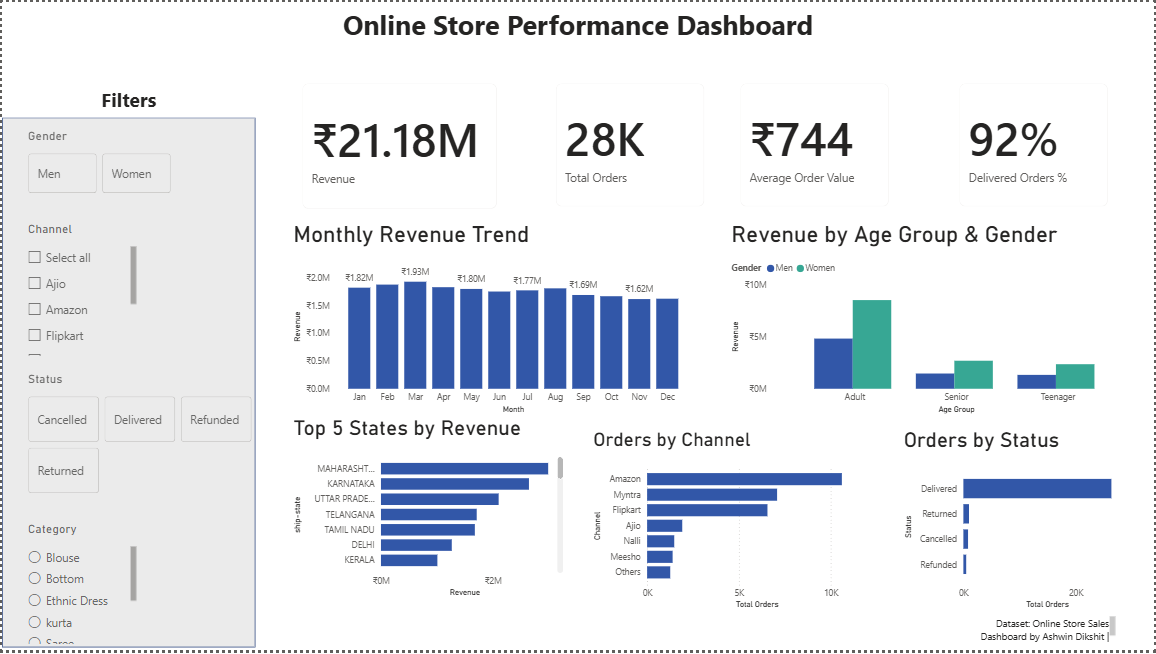

The dashboard page shown, as its layout file describes it:
{"tool":"powerbi","page":{"name":"Page 1","canvas":[1600,900],"ordinal":0},"visuals":[{"type":"cardVisual","fields":{"Data":["Online Store DB.Revenue"]},"box":[400,96,304,208],"z":1000},{"type":"cardVisual","fields":{"Data":["Online Store DB.Total Orders"]},"box":[752,96,240,205],"z":2000},{"type":"cardVisual","fields":{"Data":["Online Store DB.Average Order Value"]},"box":[1008,96,240,205],"z":3000},{"type":"cardVisual","fields":{"Data":["Online Store DB.Delivered Orders %"]},"box":[1312,96,240,205],"z":4000},{"type":"clusteredColumnChart","title":"Monthly Revenue Trend","fields":{"Category":["Online Store DB.Month"],"Y":["Online Store DB.Revenue"]},"box":[400,304,560,272],"z":5000},{"type":"barChart","title":"Top 5 States by Revenue","fields":{"Category":["Online Store DB.ship-state"],"Y":["Online Store DB.Revenue"]},"box":[400,576,384,256],"z":6000},{"type":"barChart","title":"Orders by Channel","fields":{"Category":["Online Store DB.Channel "],"Y":["Online Store DB.Total Orders"]},"box":[816,592,400,256],"z":7000},{"type":"barChart","title":"Orders by Status","fields":{"Category":["Online Store DB.Status"],"Y":["Online Store DB.Total Orders"]},"box":[1248,592,336,256],"z":8000},{"type":"clusteredColumnChart","title":"Revenue by Age Group & Gender","fields":{"Category":["Online Store DB.Age Group"],"Series":["Online Store DB.Gender"],"Y":["Online Store DB.Revenue"]},"box":[1008,304,576,272],"z":9000},{"type":"listSlicer","fields":{"Values":["Online Store DB.Channel "]},"box":[32,304,160,192],"z":10000},{"type":"listSlicer","fields":{"Values":["Online Store DB.Category"]},"box":[32,720,160,176],"z":11000},{"type":"advancedSlicerVisual","fields":{"Values":["Online Store DB.Gender"]},"box":[32,176,208,96],"z":12000},{"type":"advancedSlicerVisual","fields":{"Values":["Online Store DB.Status"]},"box":[32,512,320,176],"z":13000},{"type":"textbox","box":[0,0,1600,80],"z":14000},{"type":"textbox","box":[192,720,160,176],"z":15000},{"type":"shape","box":[0,160,352,736],"z":15500},{"type":"textbox","box":[0,112,352,48],"z":16000},{"type":"textbox","box":[1328,848,224,48],"z":16001}]}

Visuals, with their boxes in screenshot pixels (x1, y1, x2, y2), scaled from the page's 1600x900 canvas onto the 1156x654 screenshot:
cardVisual - Online Store DB.Revenue: bbox=[289, 70, 509, 221]
cardVisual - Online Store DB.Total Orders: bbox=[543, 70, 717, 219]
cardVisual - Online Store DB.Average Order Value: bbox=[728, 70, 902, 219]
cardVisual - Online Store DB.Delivered Orders %: bbox=[948, 70, 1121, 219]
"Monthly Revenue Trend" clusteredColumnChart: bbox=[289, 221, 694, 419]
"Top 5 States by Revenue" barChart: bbox=[289, 419, 566, 605]
"Orders by Channel" barChart: bbox=[590, 430, 879, 616]
"Orders by Status" barChart: bbox=[902, 430, 1144, 616]
"Revenue by Age Group & Gender" clusteredColumnChart: bbox=[728, 221, 1144, 419]
listSlicer - Online Store DB.Channel : bbox=[23, 221, 139, 360]
listSlicer - Online Store DB.Category: bbox=[23, 523, 139, 651]
advancedSlicerVisual - Online Store DB.Gender: bbox=[23, 128, 173, 198]
advancedSlicerVisual - Online Store DB.Status: bbox=[23, 372, 254, 500]
textbox: bbox=[0, 0, 1155, 58]
textbox: bbox=[139, 523, 254, 651]
shape: bbox=[0, 116, 254, 651]
textbox: bbox=[0, 81, 254, 116]
textbox: bbox=[959, 616, 1121, 651]
